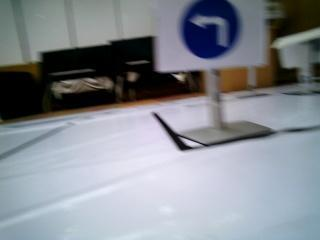left: (166, 0, 252, 64)
